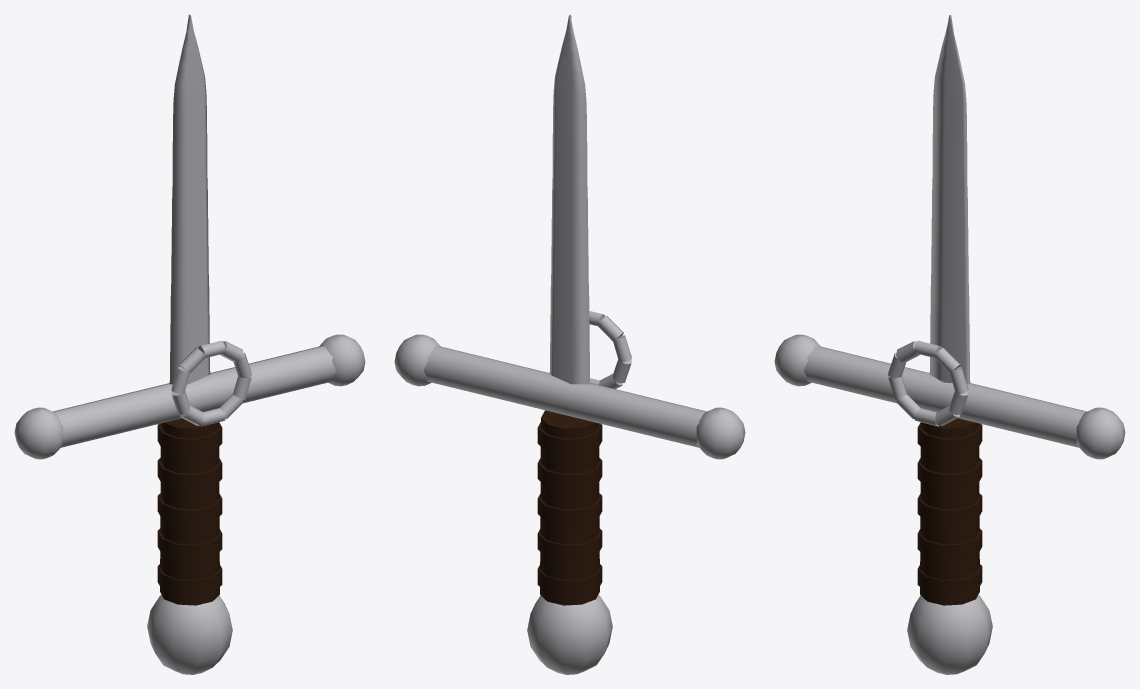
The model's file is SM_Art_Weapon_ParryingDagger.gltf.
3 renders of one model, left to right at view 1: azimuth 30°, elevation 25°; view 2: azimuth 150°, elevation 25°; view 3: azimuth 330°, elevation 25°, orthographic.
Parts seen in each view (by area): view 1: SM_Art_Weapon_ParryingDagger; view 2: SM_Art_Weapon_ParryingDagger; view 3: SM_Art_Weapon_ParryingDagger.
Boxes of the visible parts, x1,y1,x2,y2 form: SM_Art_Weapon_ParryingDagger: [14, 14, 365, 674]; SM_Art_Weapon_ParryingDagger: [394, 14, 745, 674]; SM_Art_Weapon_ParryingDagger: [774, 15, 1125, 674].
Bounding box in the file's own units: 0.1841 × 0.335 × 0.042.
